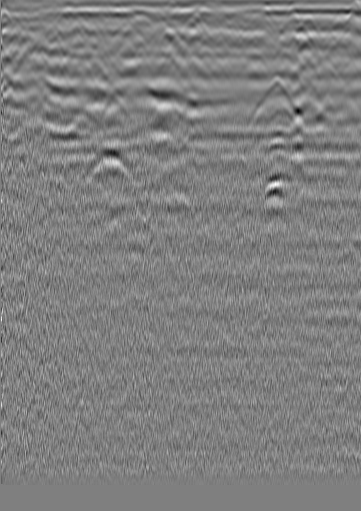가스: (255, 174, 292, 206)
상수: (18, 34, 38, 54)
오수: (301, 13, 321, 33)
우수: (158, 24, 178, 44)
